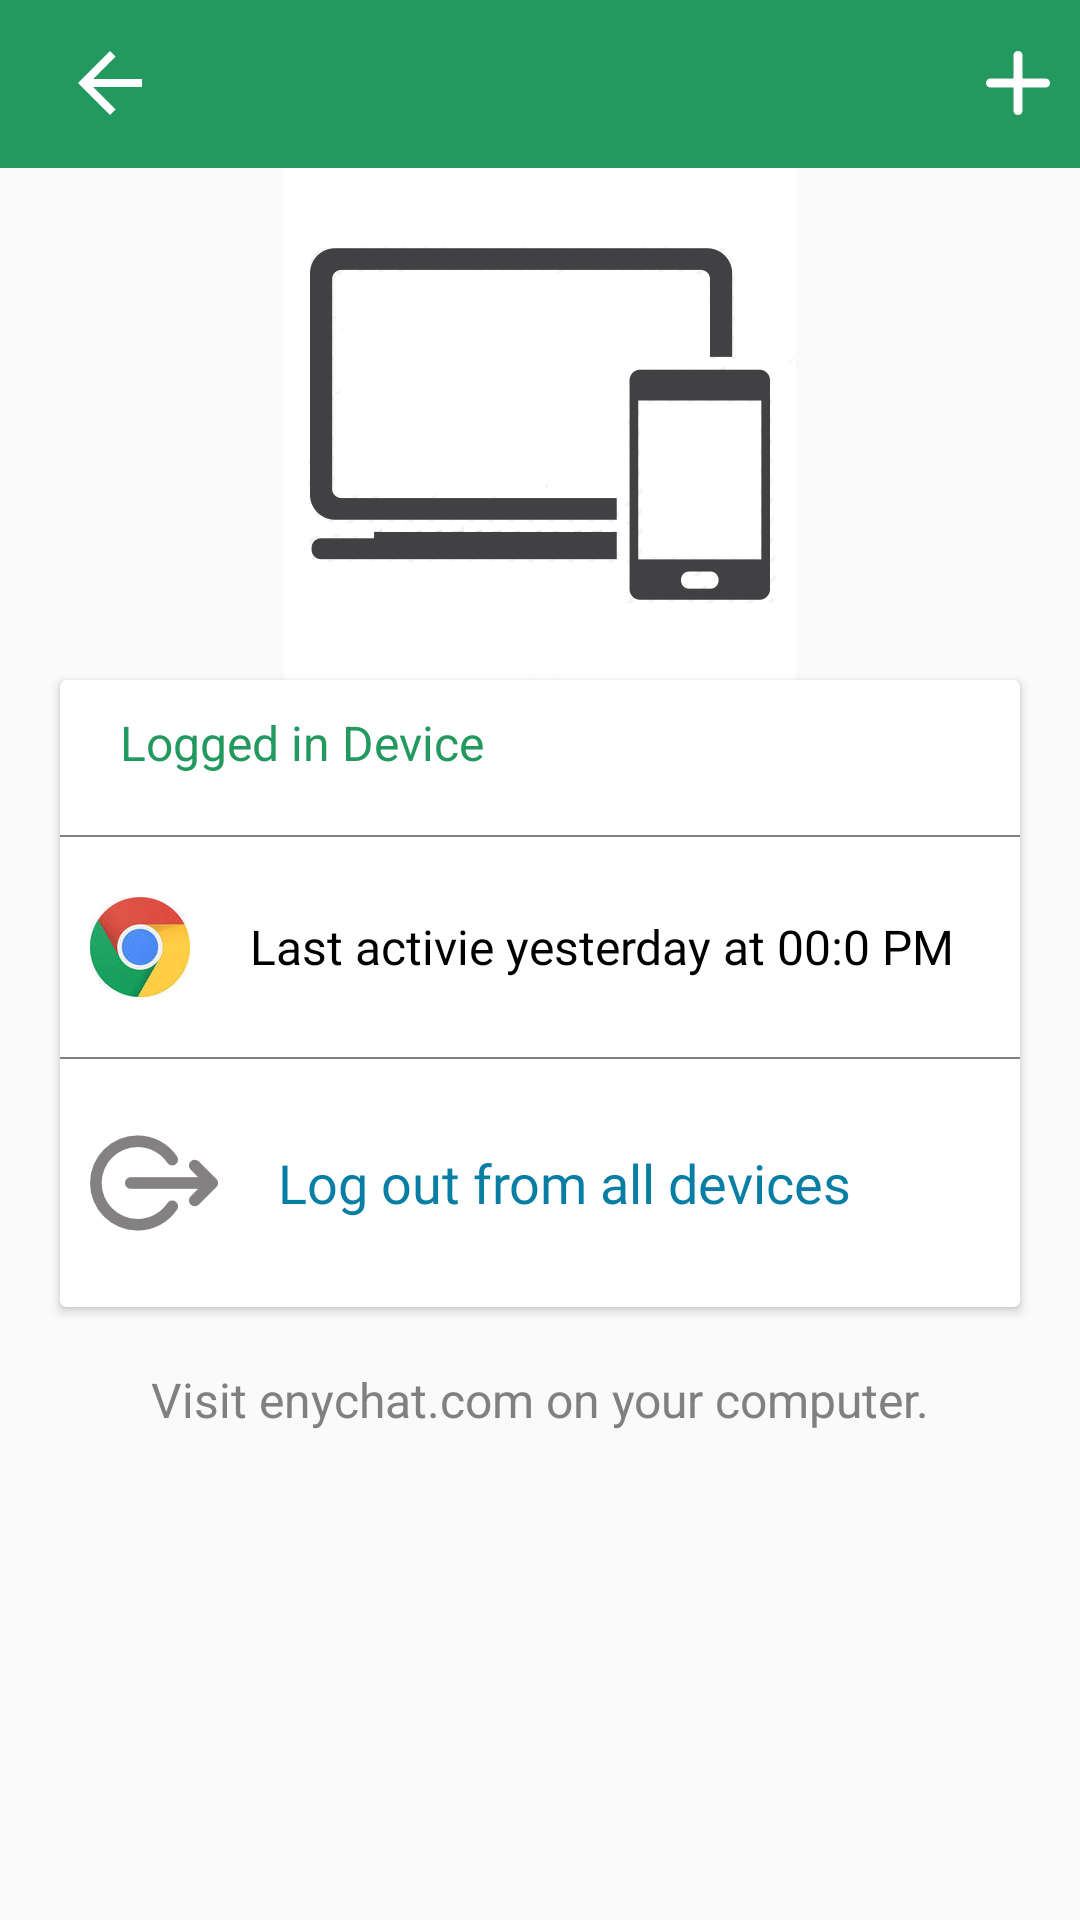

Named icons in this screenshot (1080*1920) and their bounding boxes, {"x1": x1, "y1": y1, "x2": x2, "y2": y2}:
add: {"x1": 986, "y1": 51, "x2": 1050, "y2": 115}
back arrow: {"x1": 78, "y1": 51, "x2": 142, "y2": 115}
